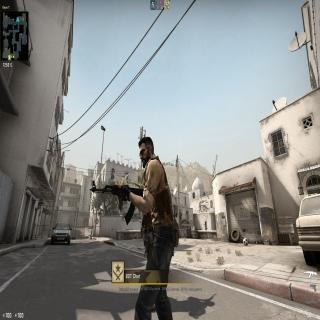T-Head: (137, 135, 155, 167)
